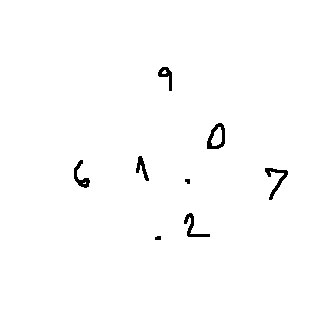.: (148, 232, 167, 242), (183, 176, 195, 190)
0: (202, 116, 232, 159)
1: (129, 146, 159, 188)
2: (179, 210, 214, 249)
6: (63, 154, 104, 203)
7: (259, 159, 295, 207)
9: (151, 61, 187, 101)
